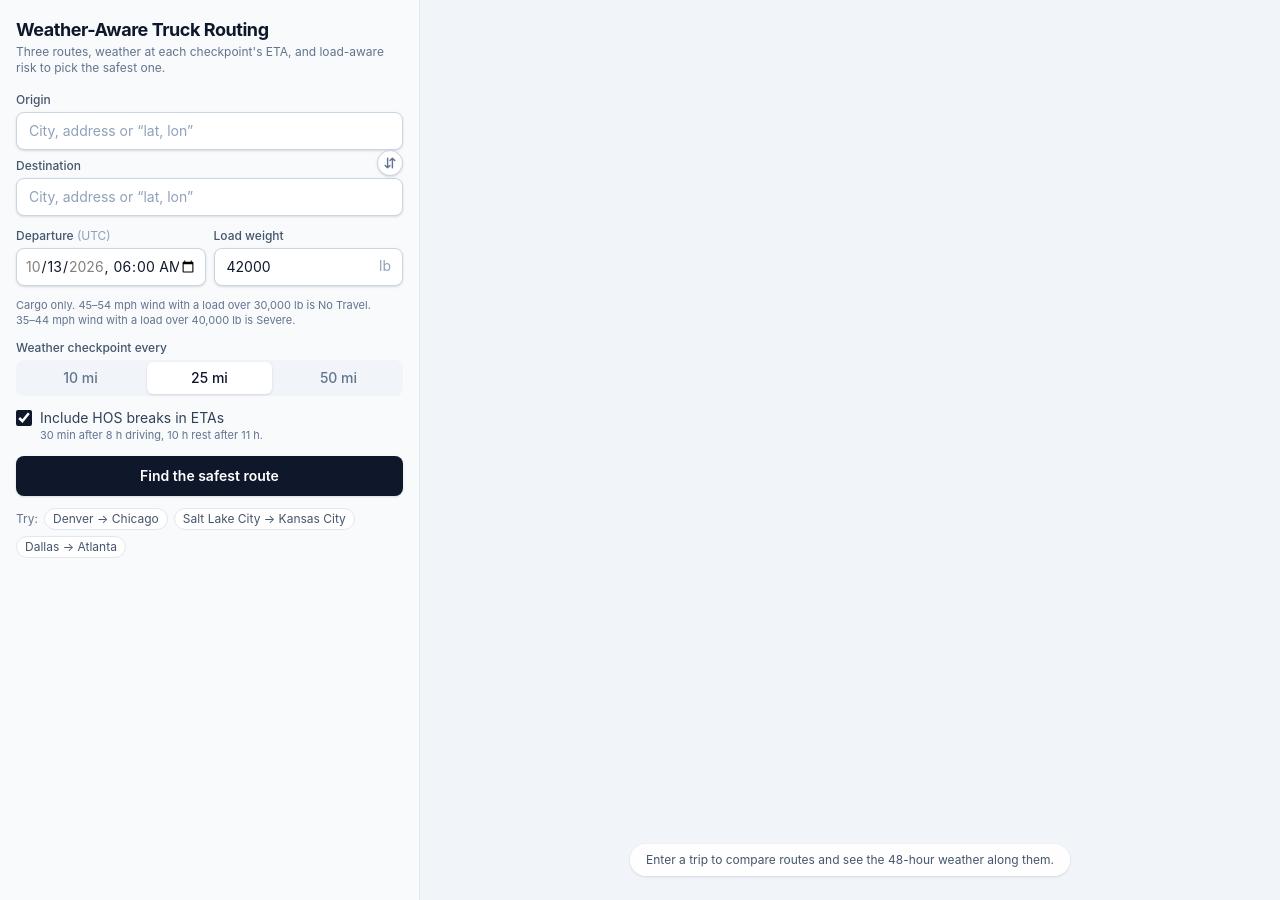
Scenario: App › should show the error without a previous-plan note when the first plan fails
Click the button "Denver → Chicago".
click(106, 519)  # box top-left (44, 508), bottom-right (168, 530)
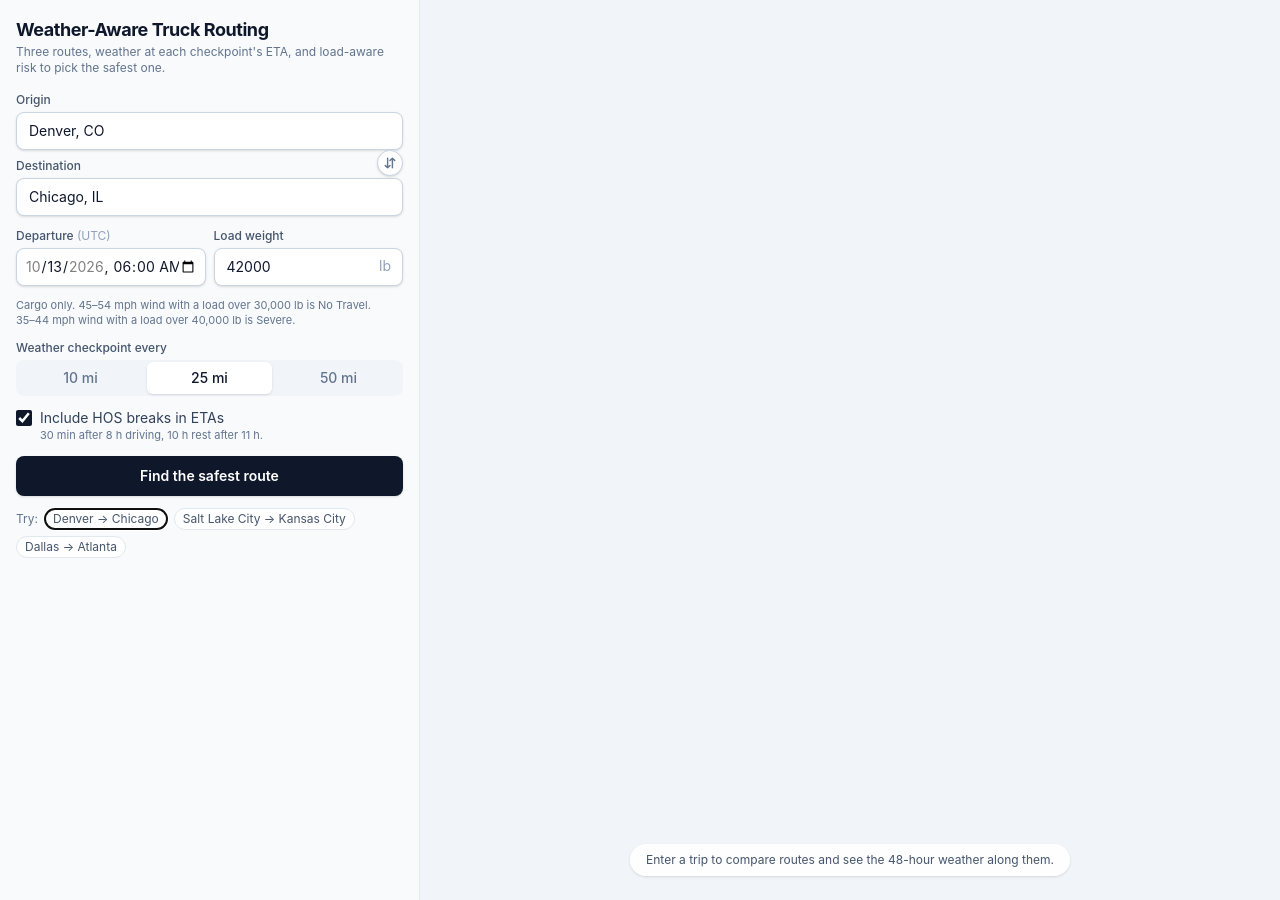
Click the button "Find the safest route".
click(210, 476)  # box top-left (16, 456), bottom-right (403, 496)
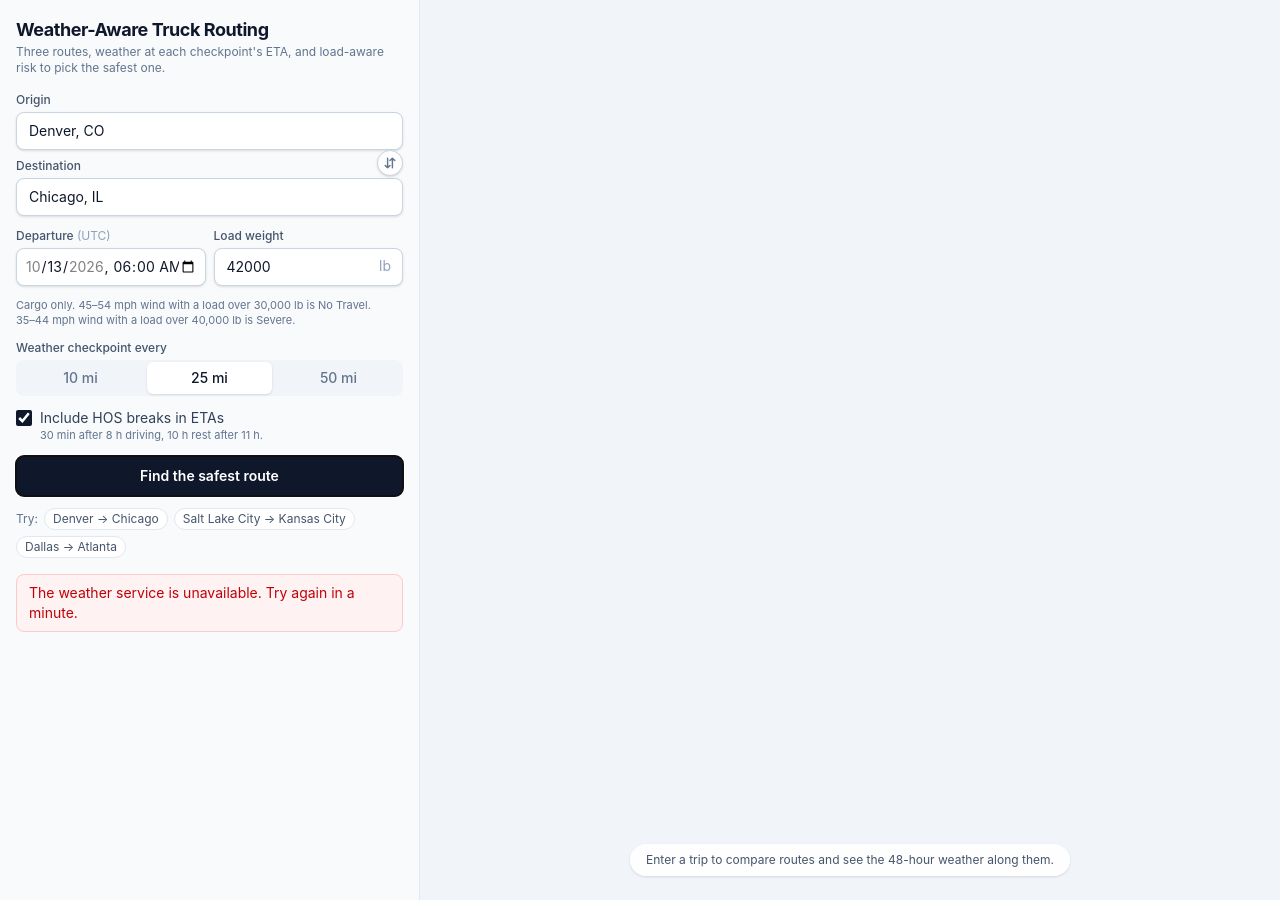
Result: the text "The weather service is unavailable. Try again in a minute." is shown at top-left (16, 574), bottom-right (403, 632)
